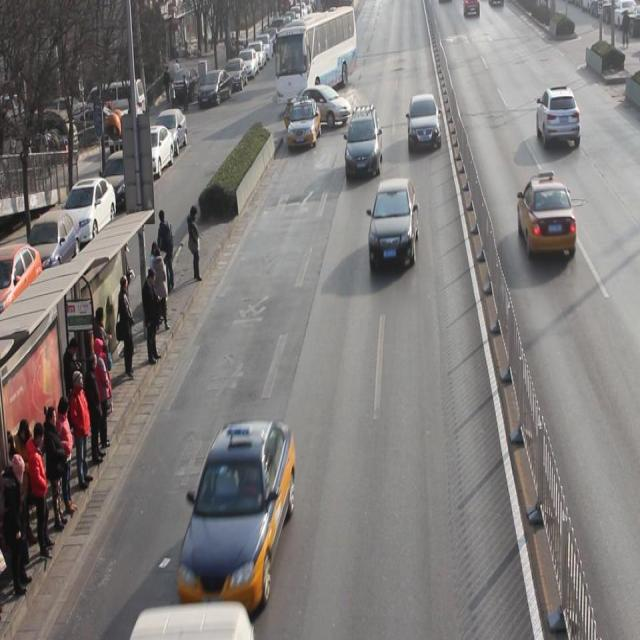car: (180, 420, 298, 613), (368, 177, 420, 273), (518, 177, 578, 259), (536, 88, 581, 152), (292, 85, 352, 132), (345, 110, 383, 180), (407, 94, 442, 157), (286, 100, 323, 150)
van: (276, 10, 355, 110)
